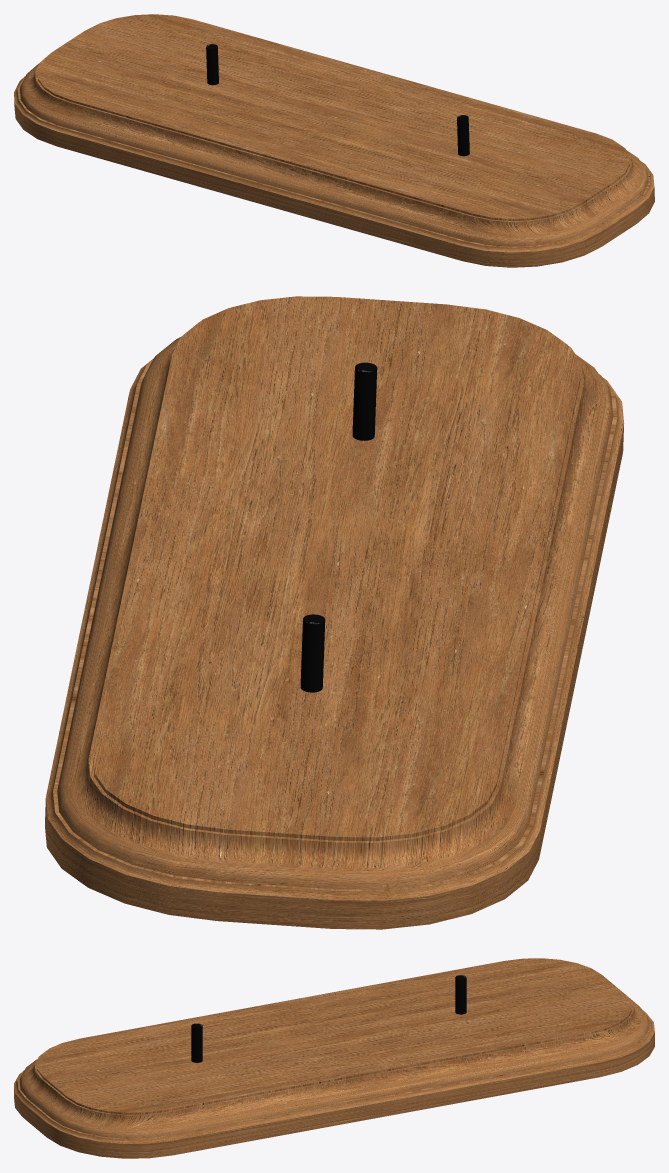
Rendered from ship.glb.
3 views of the same model, one above another, from view 1: azimuth 30°, elevation 25°; view 2: azimuth 150°, elevation 25°; view 3: azimuth 270°, elevation 25° (orthographic). The views are drawn at different scales.
Visible parts, largest first — view 1: Ship miniature; view 2: Ship miniature; view 3: Ship miniature.
Boxes of the visible parts, x1=… form: Ship miniature: x1=14, y1=14, x2=654, y2=267; Ship miniature: x1=45, y1=296, x2=623, y2=929; Ship miniature: x1=14, y1=958, x2=654, y2=1158.
Size of the model in its own units: 1.02 by 0.2029 by 1.48.
2 materials, 2 textured.
